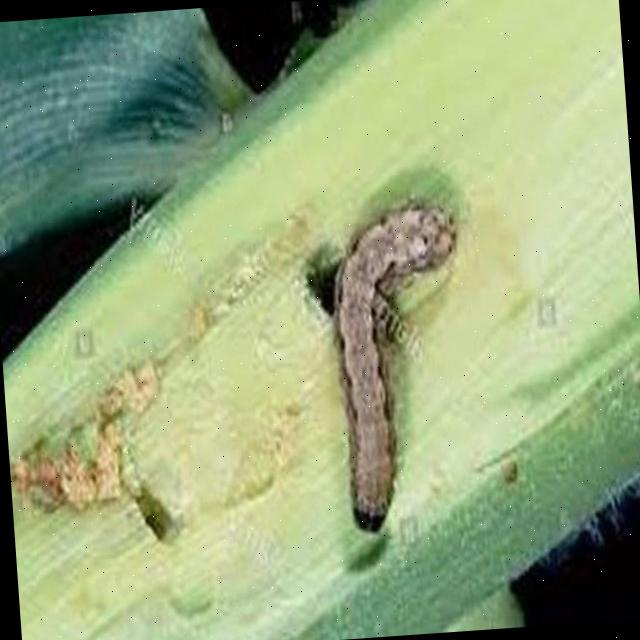worm: (325, 201, 481, 538)
